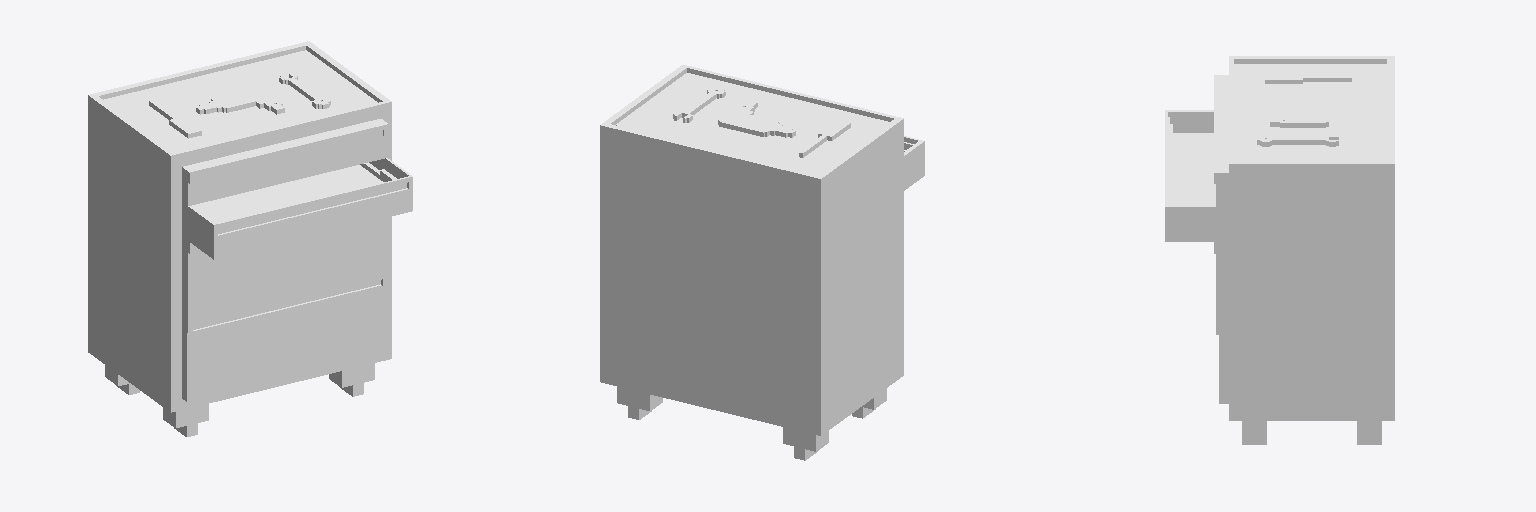
The model's file is cajaHerramientas.obj.
3 renders of one model, left to right at view 1: azimuth 30°, elevation 25°; view 2: azimuth 150°, elevation 25°; view 3: azimuth 270°, elevation 25°, orthographic.
Visible parts, largest first — view 1: object 1; view 2: object 1; view 3: object 1.
Boxes of the visible parts, x1=… form: object 1: x1=88, y1=41, x2=412, y2=436; object 1: x1=600, y1=65, x2=924, y2=460; object 1: x1=1165, y1=56, x2=1394, y2=444.
Bounding box in the file's own units: 10 × 12.6 × 9.